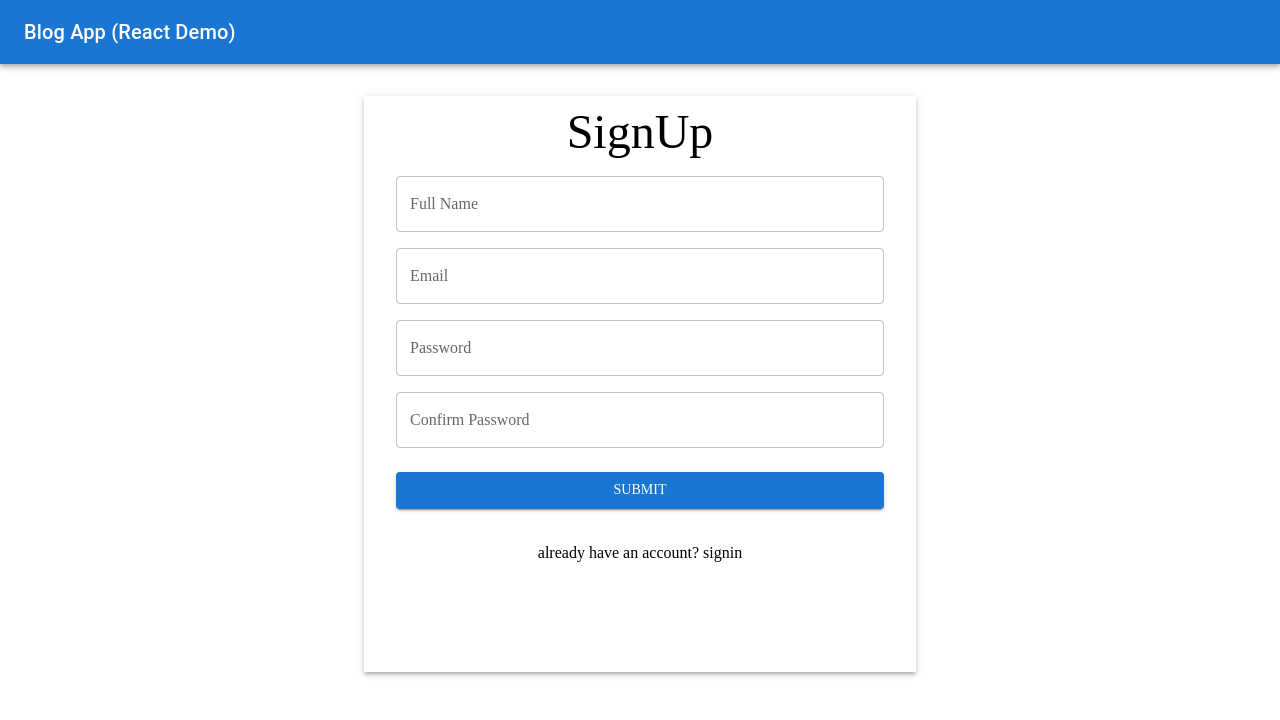
Test case: Authentication › should register user
Type "Cypress Test" into the field named "fullname" at (640, 204), box [396, 176, 884, 232]
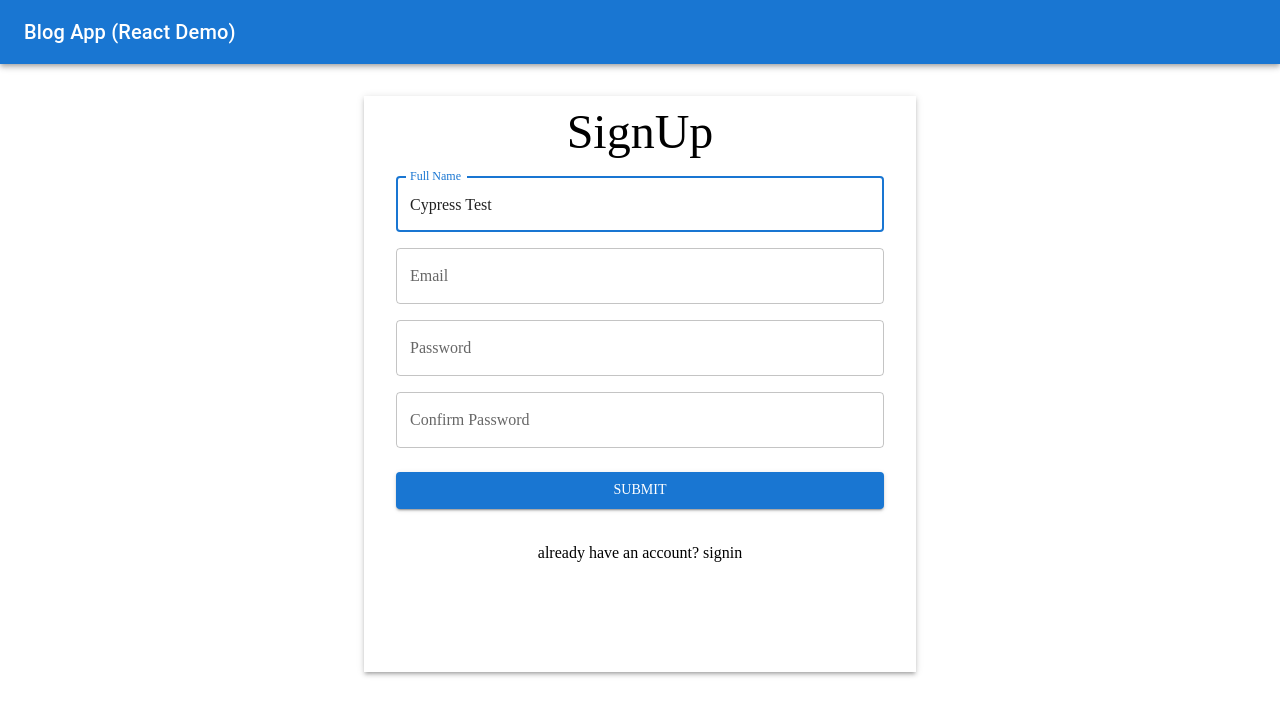
Type "cypress@gmail.com" into the field named "email" at (640, 276), box [396, 248, 884, 304]
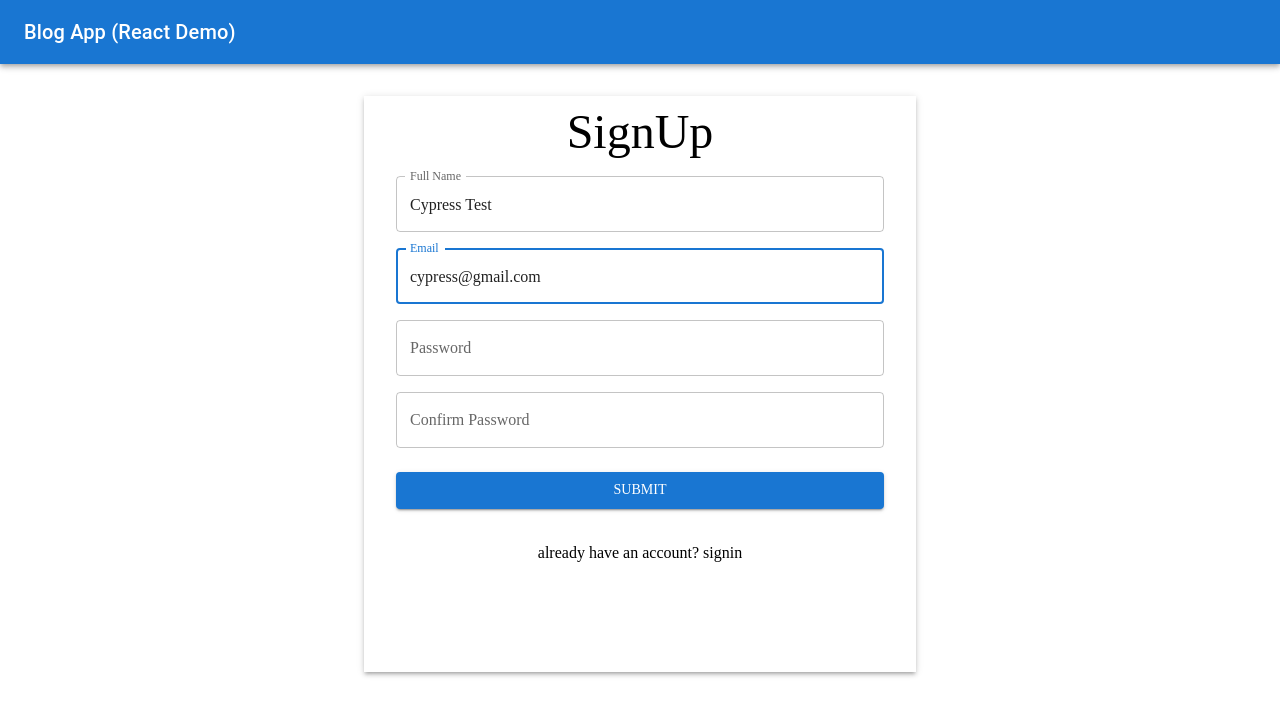
Type "cypress1234" into the password field named "password" at (640, 348), box [396, 320, 884, 376]
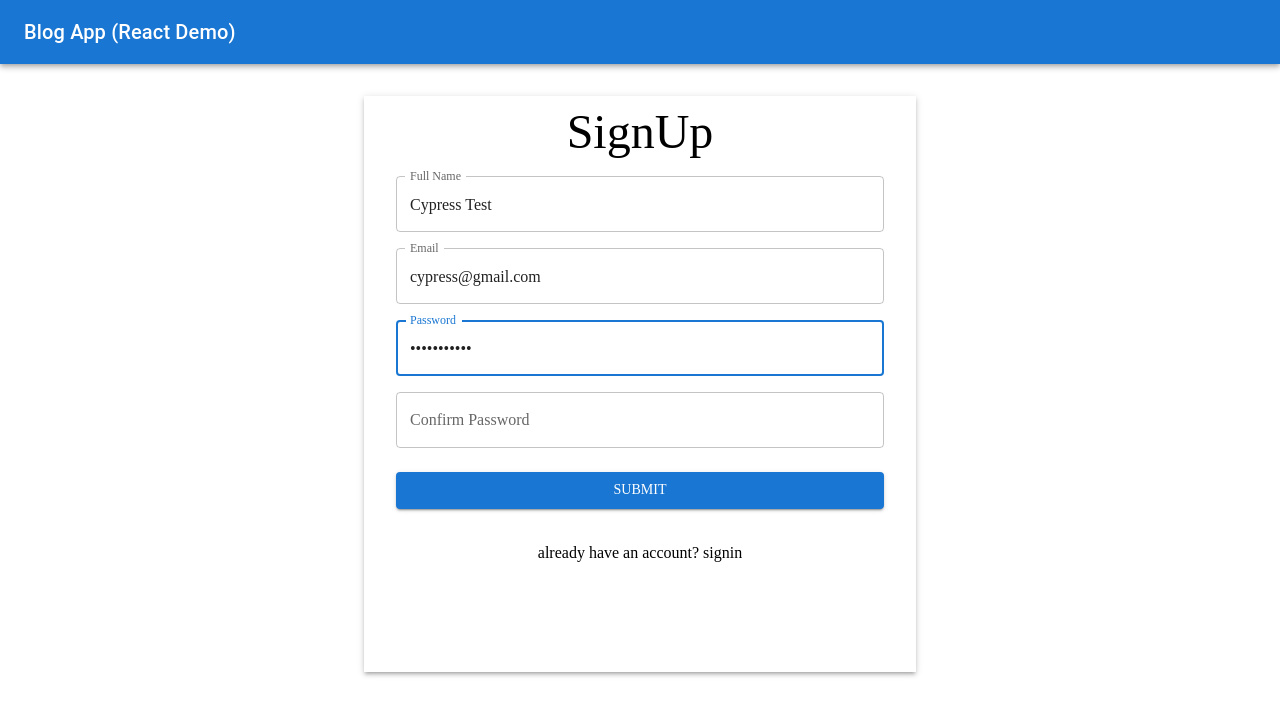
Type "cypress1234" into the password field named "confirmPassword" at (640, 420), box [396, 392, 884, 448]
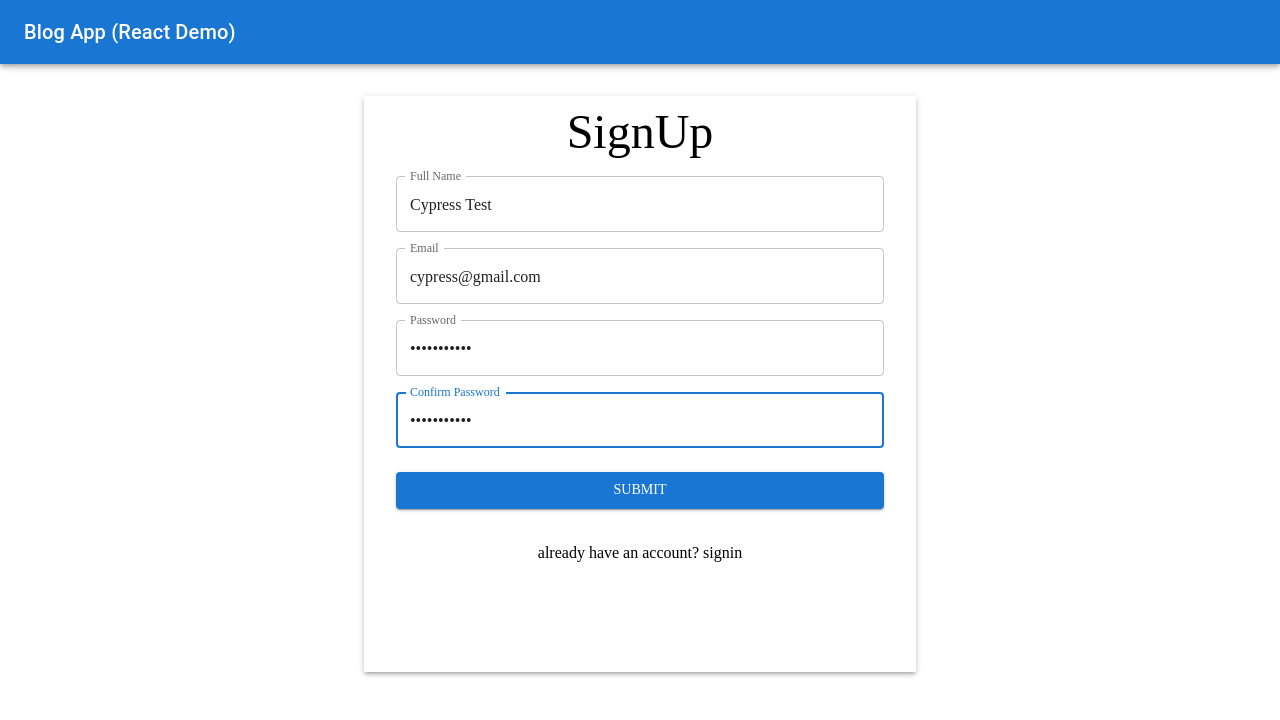
Click the button "Submit" at (640, 491), box [396, 472, 884, 509]
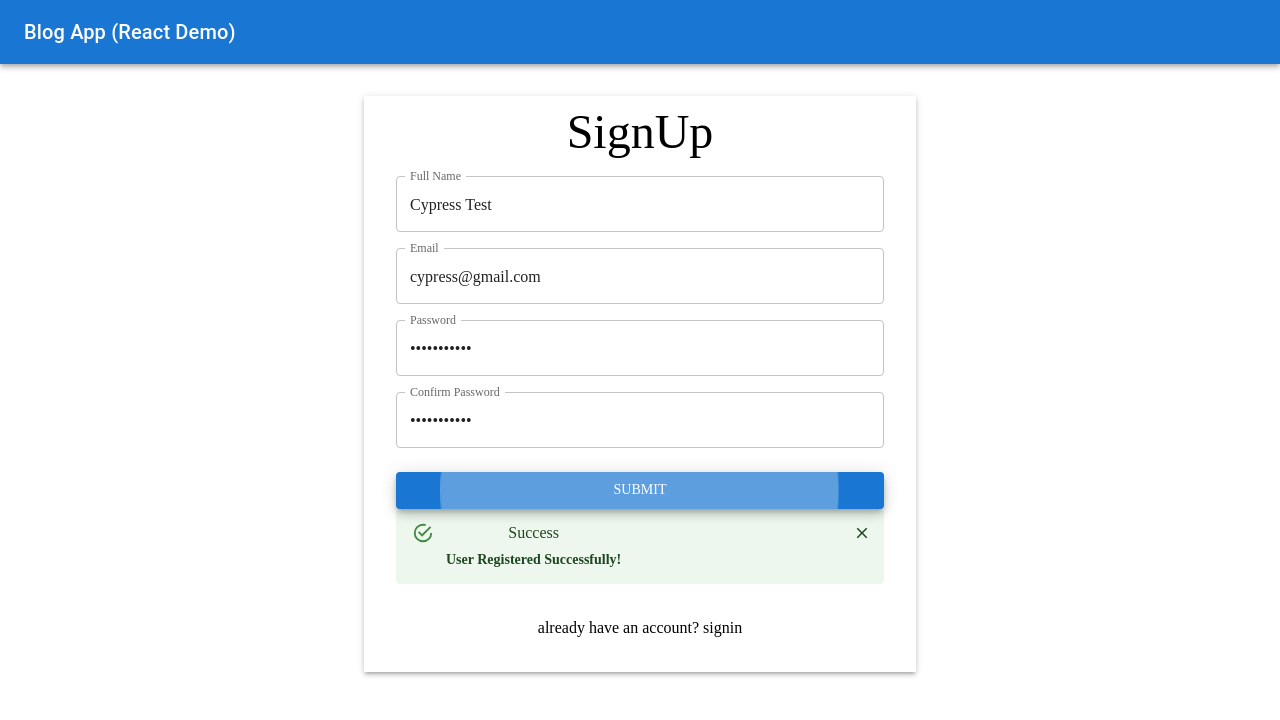
Now the message named "successAlert" is shown, box [396, 509, 884, 585]
